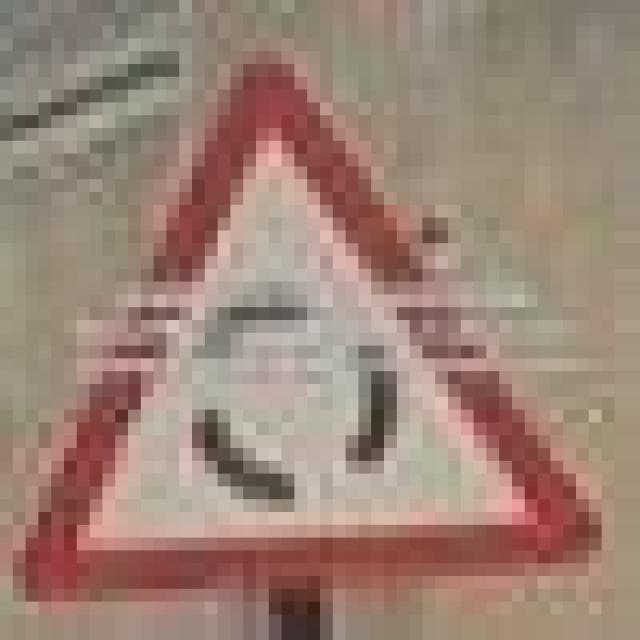ROUNDABOUT: (0, 26, 602, 576)
